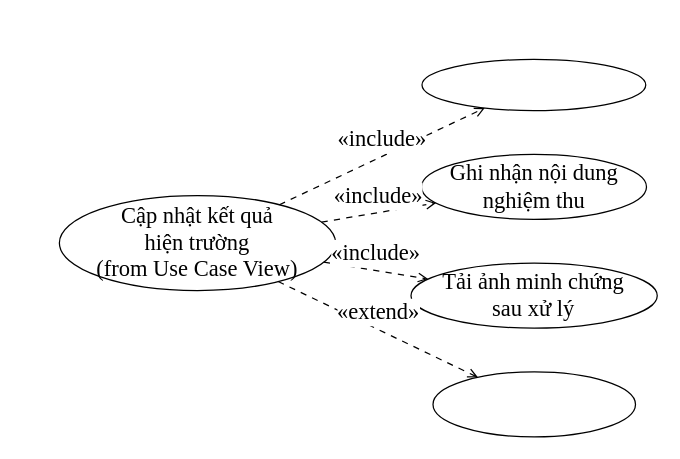
The diagram is 680 pixels wide and 459 high, and some of its shapes have lost their labels. Each missing label, with the centre of its shape:
"Xem chi tiết nhiệm vụ" goes at point (533, 84).
"Yêu cầu gia hạn thời gian xử lý" goes at point (534, 404).
